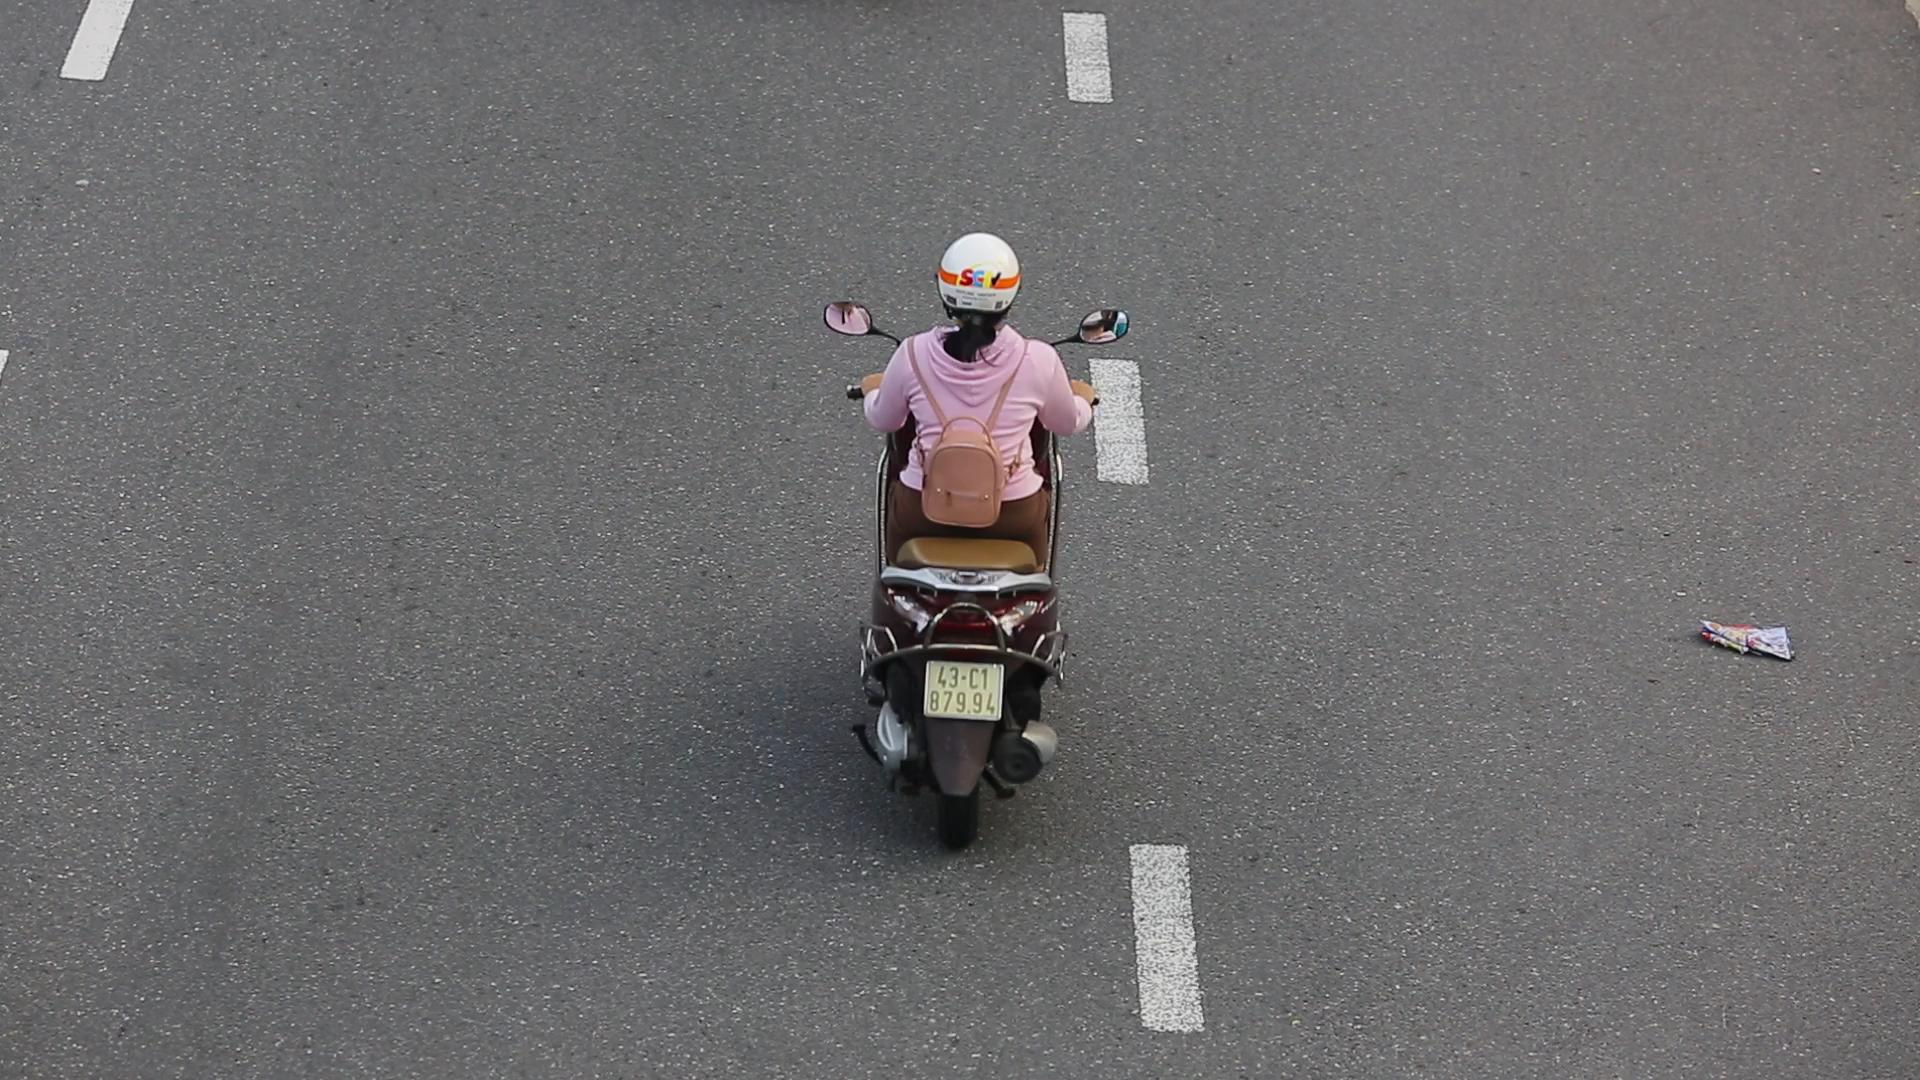motobike: (794, 214, 1153, 901)
